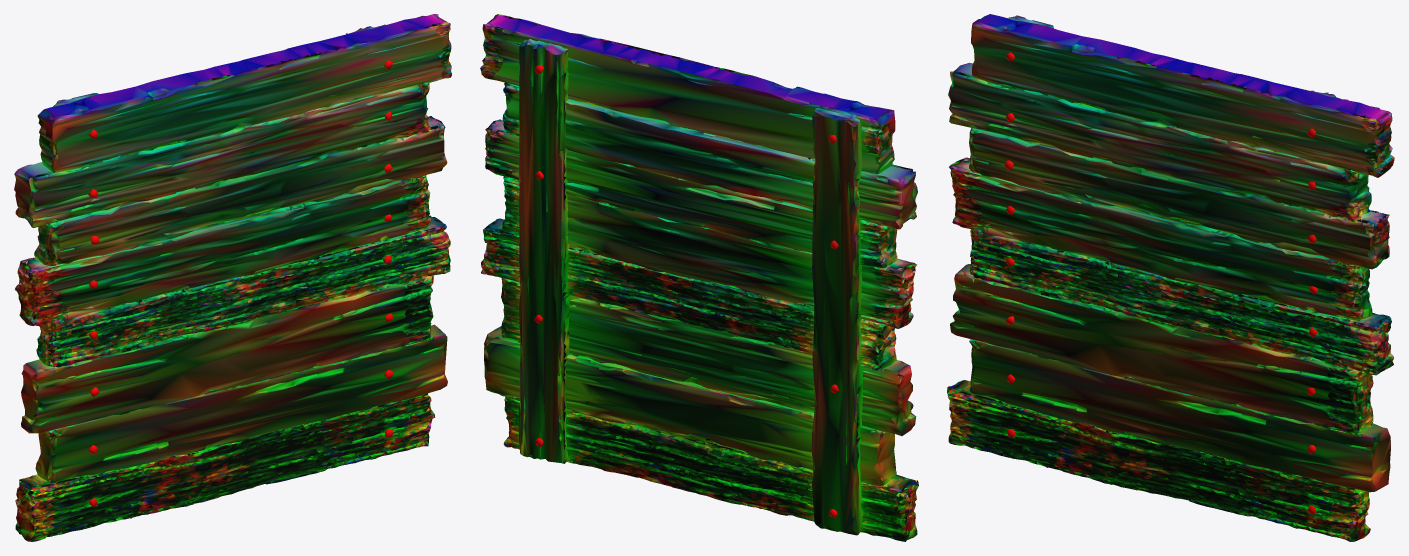
The model's file is SM_Wood_Wall.fbx.
3 views of the same model, side by side, from view 1: azimuth 30°, elevation 25°; view 2: azimuth 150°, elevation 25°; view 3: azimuth 330°, elevation 25° (orthographic). The views are drawn at different scales.
Visible parts, largest first — view 1: SM_Wood_Wall_LOD0; view 2: SM_Wood_Wall_LOD0; view 3: SM_Wood_Wall_LOD0.
Part boxes in pixels (box(x1,y1,x2,y2)): SM_Wood_Wall_LOD0: box(14, 14, 451, 541); SM_Wood_Wall_LOD0: box(480, 14, 918, 541); SM_Wood_Wall_LOD0: box(947, 14, 1394, 541).
Size of the model in its own units: 324 by 34.89 by 305.
